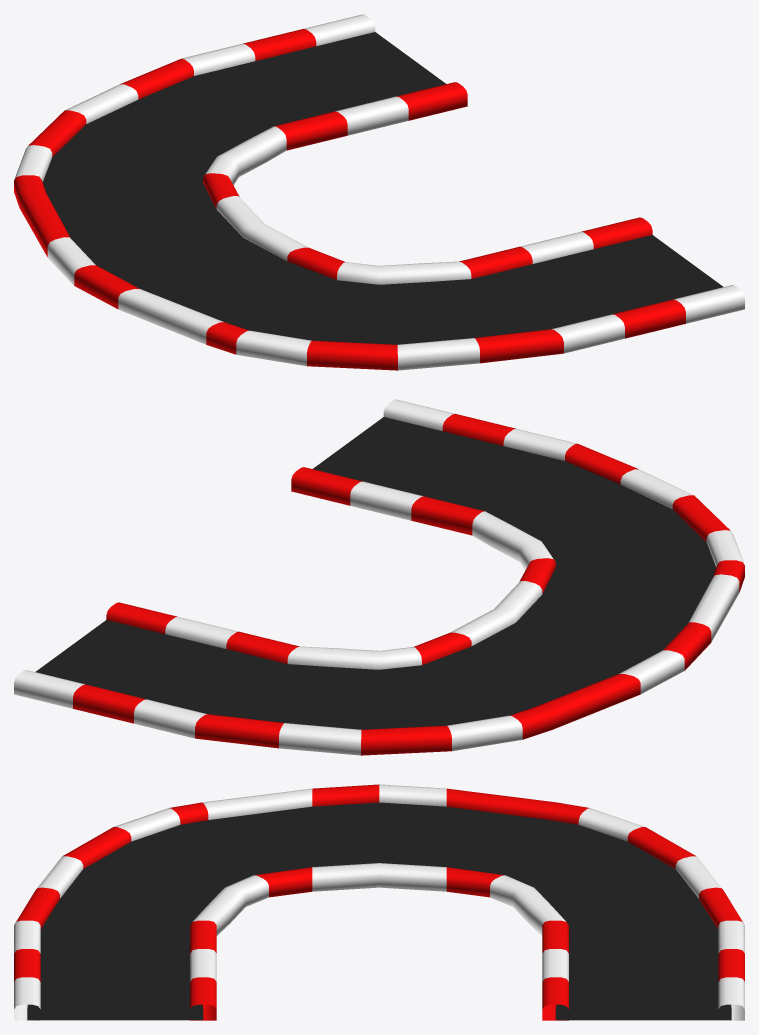
Rendered from C_CurvedTrack01.obj.
3 views of the same model, one above another, from view 1: azimuth 30°, elevation 25°; view 2: azimuth 150°, elevation 25°; view 3: azimuth 270°, elevation 25° (orthographic). The views are drawn at different scales.
Parts seen in each view (by area): view 1: C_CurvedTrack01_Cube.004; view 2: C_CurvedTrack01_Cube.004; view 3: C_CurvedTrack01_Cube.004.
Part boxes in pixels (x1,y1,x2,y2): C_CurvedTrack01_Cube.004: [14, 14, 744, 370]; C_CurvedTrack01_Cube.004: [14, 399, 744, 755]; C_CurvedTrack01_Cube.004: [14, 784, 744, 1020].
Bounding box in the file's own units: 53.86 × 1.78 × 74.72.
